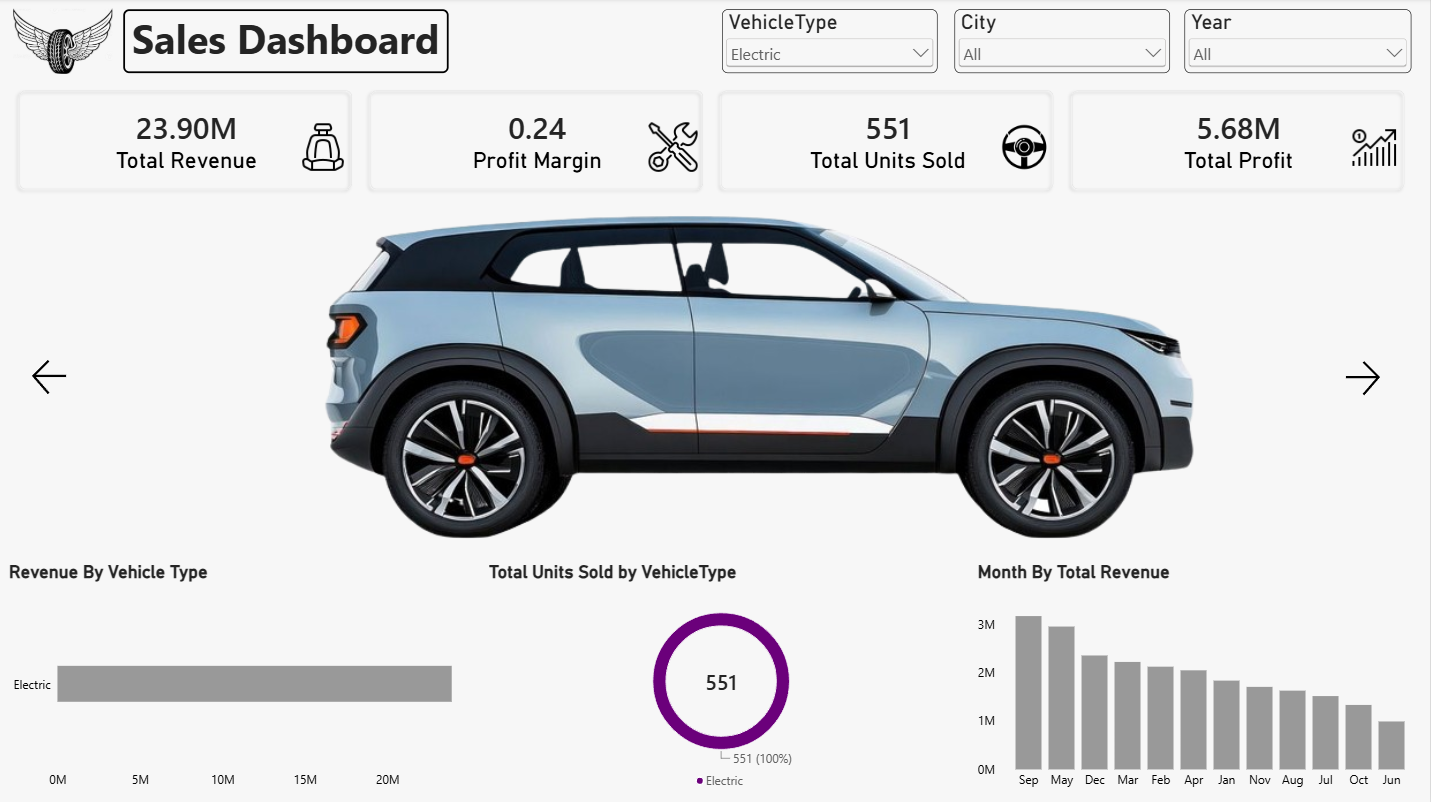

The dashboard page shown, as its layout file describes it:
{"tool":"powerbi","page":{"name":"Electric","canvas":[1920,1080],"ordinal":4},"visuals":[{"type":"image","box":[21.4,0,132.6,115.5],"z":0},{"type":"textbox","box":[168.9,15,436.2,85.5],"z":1},{"type":"cardVisual","fields":{"Data":["vehicle_sales_dashboard_dataset.Total Revenue","vehicle_sales_dashboard_dataset.Profit Margin","vehicle_sales_dashboard_dataset.Total Units Sold","vehicle_sales_dashboard_dataset.Total Profit"]},"box":[21.4,115.5,1873,149.7],"z":2},{"type":"barChart","title":"Revenue By Vehicle Type","fields":{"Category":["vehicle_sales_dashboard_dataset.VehicleType"],"Y":["Sum(vehicle_sales_dashboard_dataset.Revenue)"]},"box":[0,739.8,643.6,340],"z":3},{"type":"donutChart","fields":{"Category":["vehicle_sales_dashboard_dataset.VehicleType"],"Y":["vehicle_sales_dashboard_dataset.Total Units Sold"]},"box":[643.6,739.8,654.3,340],"z":4},{"type":"columnChart","title":"Month By Total Revenue","fields":{"Category":["vehicle_sales_dashboard_dataset.Month"],"Y":["vehicle_sales_dashboard_dataset.Total Revenue"]},"box":[1297.8,739.8,622.2,340],"z":5},{"type":"slicer","fields":{"Values":["vehicle_sales_dashboard_dataset.Year"]},"box":[1590.7,15,303.6,85.5],"z":6},{"type":"slicer","fields":{"Values":["vehicle_sales_dashboard_dataset.City"]},"box":[1282.9,15,288.6,85.5],"z":7},{"type":"actionButton","box":[20.6,477.5,100.9,61.7],"z":8},{"type":"slicer","fields":{"Values":["vehicle_sales_dashboard_dataset.VehicleType"]},"box":[971.5,14.4,288.6,85.5],"z":9},{"type":"actionButton","box":[1778.9,476.8,100.5,64.1],"z":10},{"type":"image","box":[350.6,265.1,1343,486.6],"z":11}]}

Visuals, with their boxes in screenshot pixels (x1, y1, x2, y2), scaled from the page's 1920x1080 canvas onto the 1431x802 screenshot:
image: 16 0 115 86
textbox: 126 11 451 75
cardVisual - vehicle_sales_dashboard_dataset.Total Revenue x vehicle_sales_dashboard_dataset.Profit Margin: 16 86 1412 197
"Revenue By Vehicle Type" barChart: 0 549 480 801
donutChart - vehicle_sales_dashboard_dataset.VehicleType x vehicle_sales_dashboard_dataset.Total Units Sold: 480 549 967 801
"Month By Total Revenue" columnChart: 967 549 1430 801
slicer - vehicle_sales_dashboard_dataset.Year: 1186 11 1412 75
slicer - vehicle_sales_dashboard_dataset.City: 956 11 1171 75
actionButton: 15 355 91 400
slicer - vehicle_sales_dashboard_dataset.VehicleType: 724 11 939 74
actionButton: 1326 354 1401 402
image: 261 197 1262 558
